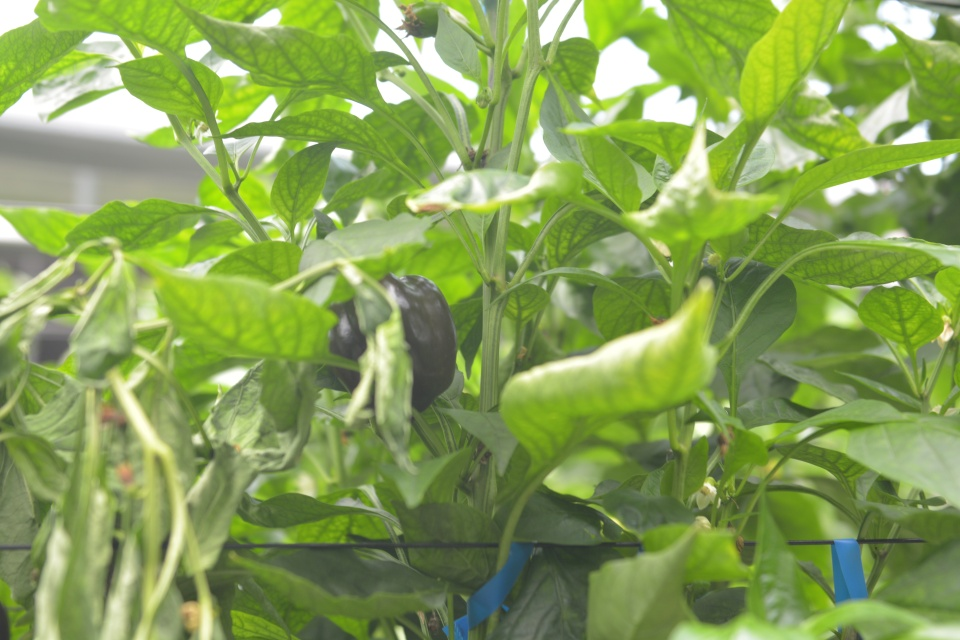flower: (694, 480, 723, 512), (931, 318, 955, 349)
fruit: (324, 271, 460, 423), (393, 0, 451, 42)
